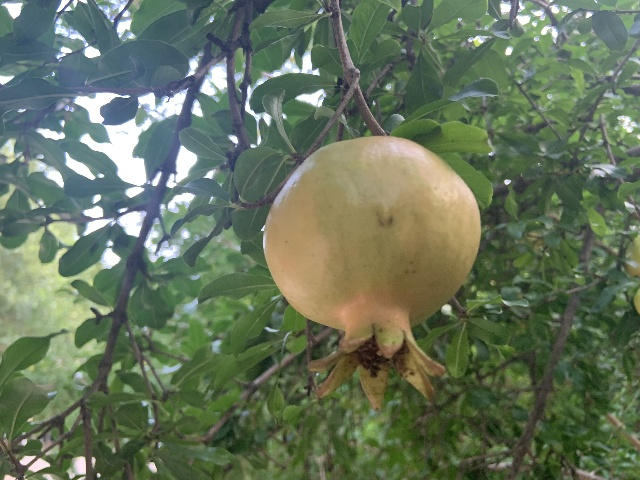mid-growth: (263, 136, 483, 413)
